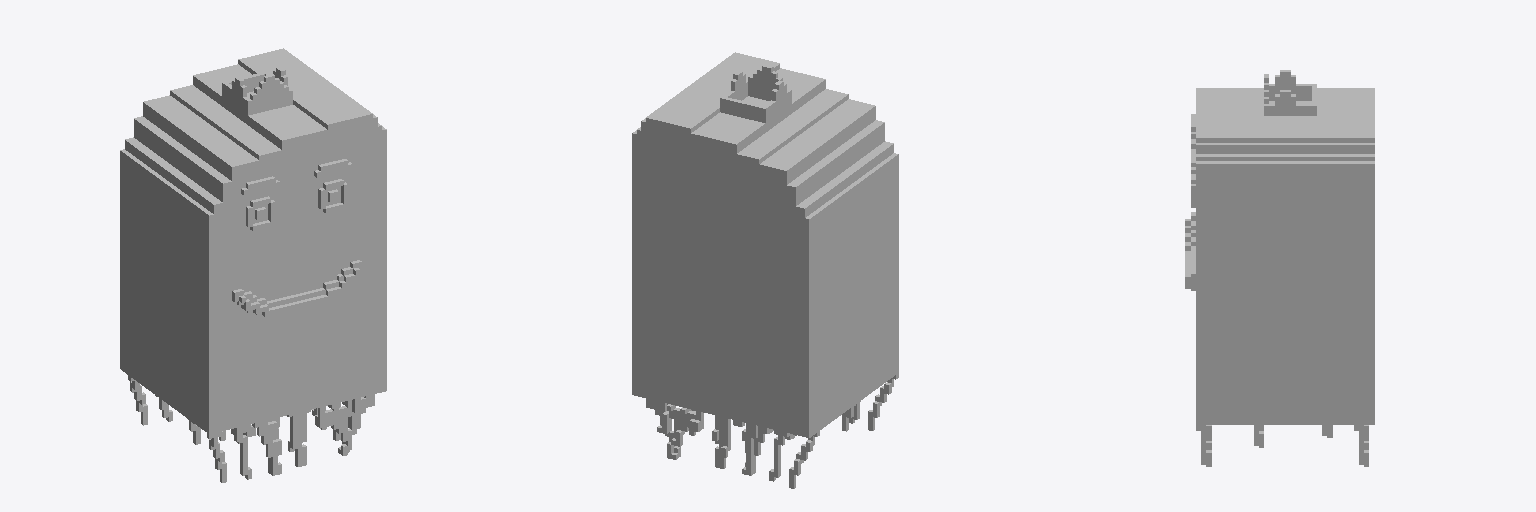
File: ghost anim 1.obj
3 renders of one model, left to right at view 1: azimuth 30°, elevation 25°; view 2: azimuth 150°, elevation 25°; view 3: azimuth 270°, elevation 25°, orthographic.
Visible parts, largest first — view 1: object 1; view 2: object 1; view 3: object 1.
Part boxes in pixels (bbox=[...]): object 1: bbox=[120, 48, 386, 482]; object 1: bbox=[632, 52, 898, 488]; object 1: bbox=[1185, 70, 1374, 466].
Bounding box in the file's own units: 3.9 × 7.7 × 3.6.